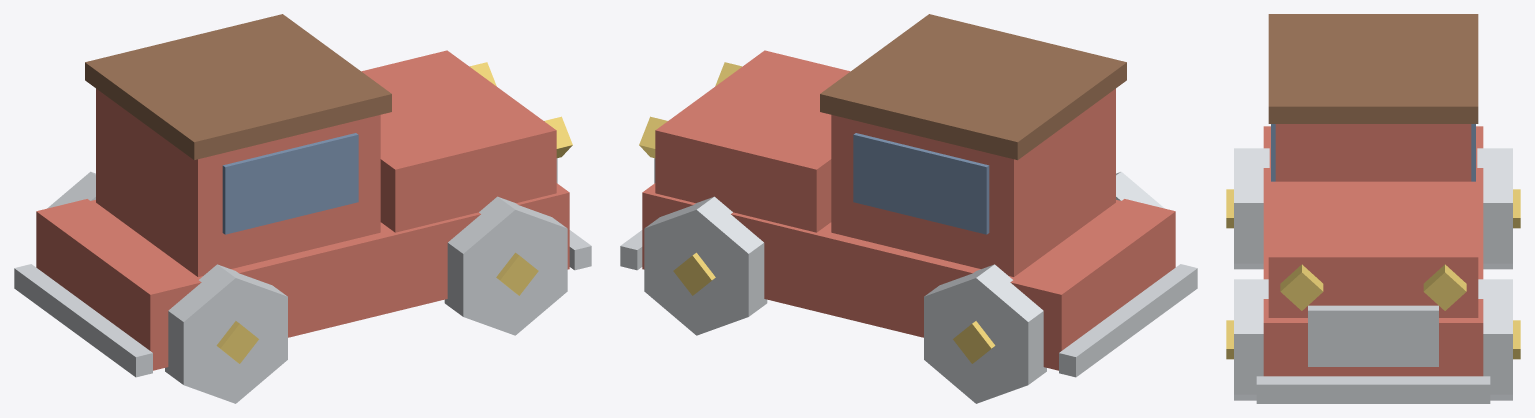
File: car.glb
The picture shows the model from 3 angles, left to right: view 1: azimuth 30°, elevation 25°; view 2: azimuth 150°, elevation 25°; view 3: azimuth 270°, elevation 25°; orthographic projection. The views are drawn at different scales.
Parts seen in each view (by area): view 1: car_chassis, car_roof, car_cabin, car_hood, car_wheel_0.65_-1, car_wheel_-0.65_-1, car_window_-1, car_bumper_-1, car_hub_-0.65_-1, car_hub_0.65_-1, car_wheel_-0.65_1, car_bumper_1 (+1 smaller); view 2: car_chassis, car_roof, car_cabin, car_hood, car_wheel_0.65_1, car_wheel_-0.65_1, car_window_1, car_bumper_-1, car_hub_-0.65_1, car_hub_0.65_1, car_wheel_-0.65_-1, car_bumper_1 (+1 smaller); view 3: car_hood, car_roof, car_cabin, car_chassis, car_grille, car_bumper_1, car_wheel_-0.65_-1, car_wheel_-0.65_1, car_wheel_0.65_-1, car_wheel_0.65_1, car_lamp_-1, car_lamp_1 (+6 smaller).
Boxes of the visible parts, x1,y1,x2,y2 form: car_chassis: [36, 183, 569, 370]; car_roof: [85, 14, 391, 160]; car_cabin: [96, 88, 380, 276]; car_hood: [361, 50, 556, 232]; car_wheel_0.65_-1: [444, 196, 567, 335]; car_wheel_-0.65_-1: [165, 264, 287, 403]; car_window_-1: [222, 133, 358, 234]; car_bumper_-1: [14, 264, 152, 377]; car_hub_-0.65_-1: [216, 321, 258, 363]; car_hub_0.65_-1: [496, 252, 538, 295]; car_wheel_-0.65_1: [47, 171, 95, 208]; car_bumper_1: [569, 230, 591, 270]; car_chassis: [642, 183, 1175, 370]; car_roof: [820, 14, 1126, 160]; car_cabin: [831, 88, 1115, 276]; car_hood: [655, 50, 850, 232]; car_wheel_0.65_1: [644, 196, 767, 335]; car_wheel_-0.65_1: [924, 264, 1046, 403]; car_window_1: [853, 133, 989, 234]; car_bumper_-1: [1059, 264, 1197, 377]; car_hub_-0.65_1: [953, 321, 995, 363]; car_hub_0.65_1: [673, 252, 715, 295]; car_wheel_-0.65_-1: [1116, 171, 1164, 208]; car_bumper_1: [620, 230, 642, 270]; car_hood: [1268, 181, 1478, 317]; car_roof: [1268, 14, 1478, 123]; car_cabin: [1275, 124, 1471, 181]; car_chassis: [1263, 126, 1483, 376]; car_grille: [1308, 305, 1438, 366]; car_bumper_1: [1256, 376, 1490, 403]; car_wheel_-0.65_-1: [1234, 148, 1269, 269]; car_wheel_-0.65_1: [1477, 148, 1512, 269]; car_wheel_0.65_-1: [1234, 279, 1268, 400]; car_wheel_0.65_1: [1478, 279, 1512, 400]; car_lamp_-1: [1280, 264, 1323, 310]; car_lamp_1: [1423, 264, 1466, 310].
Size of the model in its own units: 2.12 by 1.13 by 1.24.
